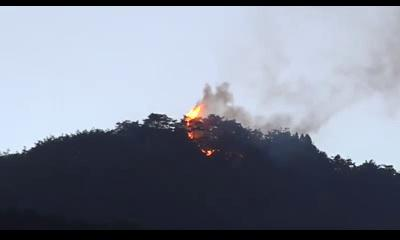fire: (178, 100, 209, 139)
smoke: (255, 89, 319, 130), (211, 84, 244, 118)
